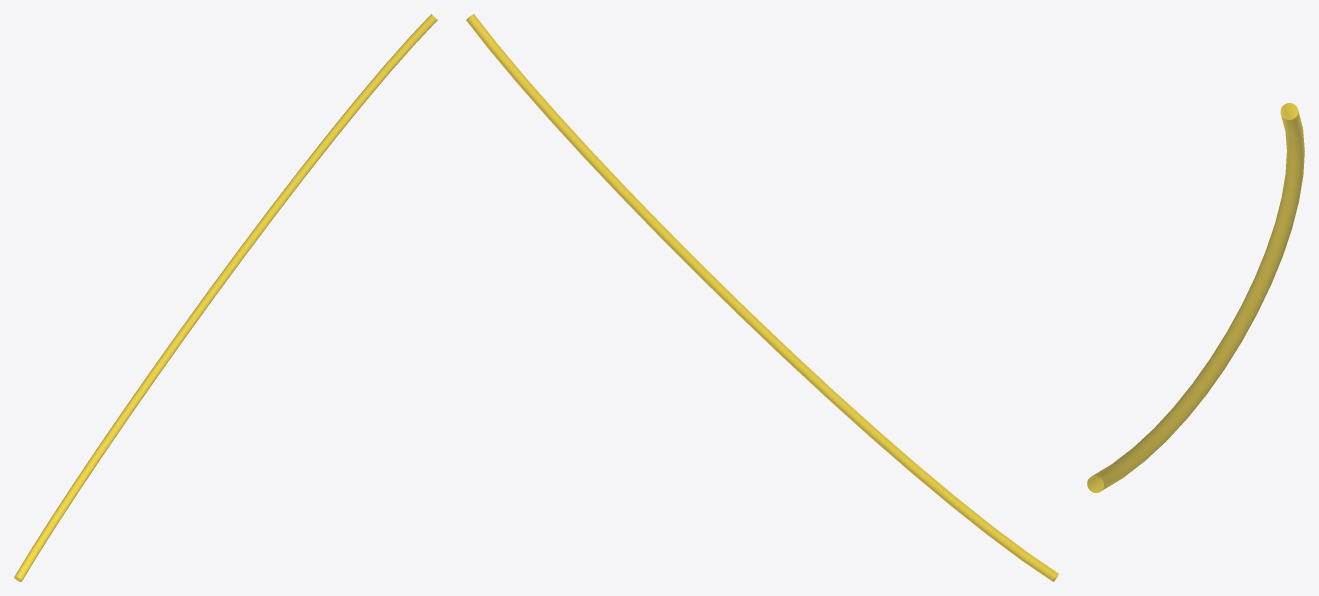
The model's file is Event_75125125_track_33.fbx.
3 views of the same model, side by side, from view 1: azimuth 30°, elevation 25°; view 2: azimuth 150°, elevation 25°; view 3: azimuth 270°, elevation 25° (orthographic). The views are drawn at different scales.
Visible parts, largest first — view 1: Model; view 2: Model; view 3: Model.
Boxes of the visible parts, x1,y1,x2,y2 form: Model: (14,14,437,581); Model: (466,14,1058,581); Model: (1087,103,1304,492).
Bounding box in the file's own units: 2.42 × 2.07 × 0.4854.
